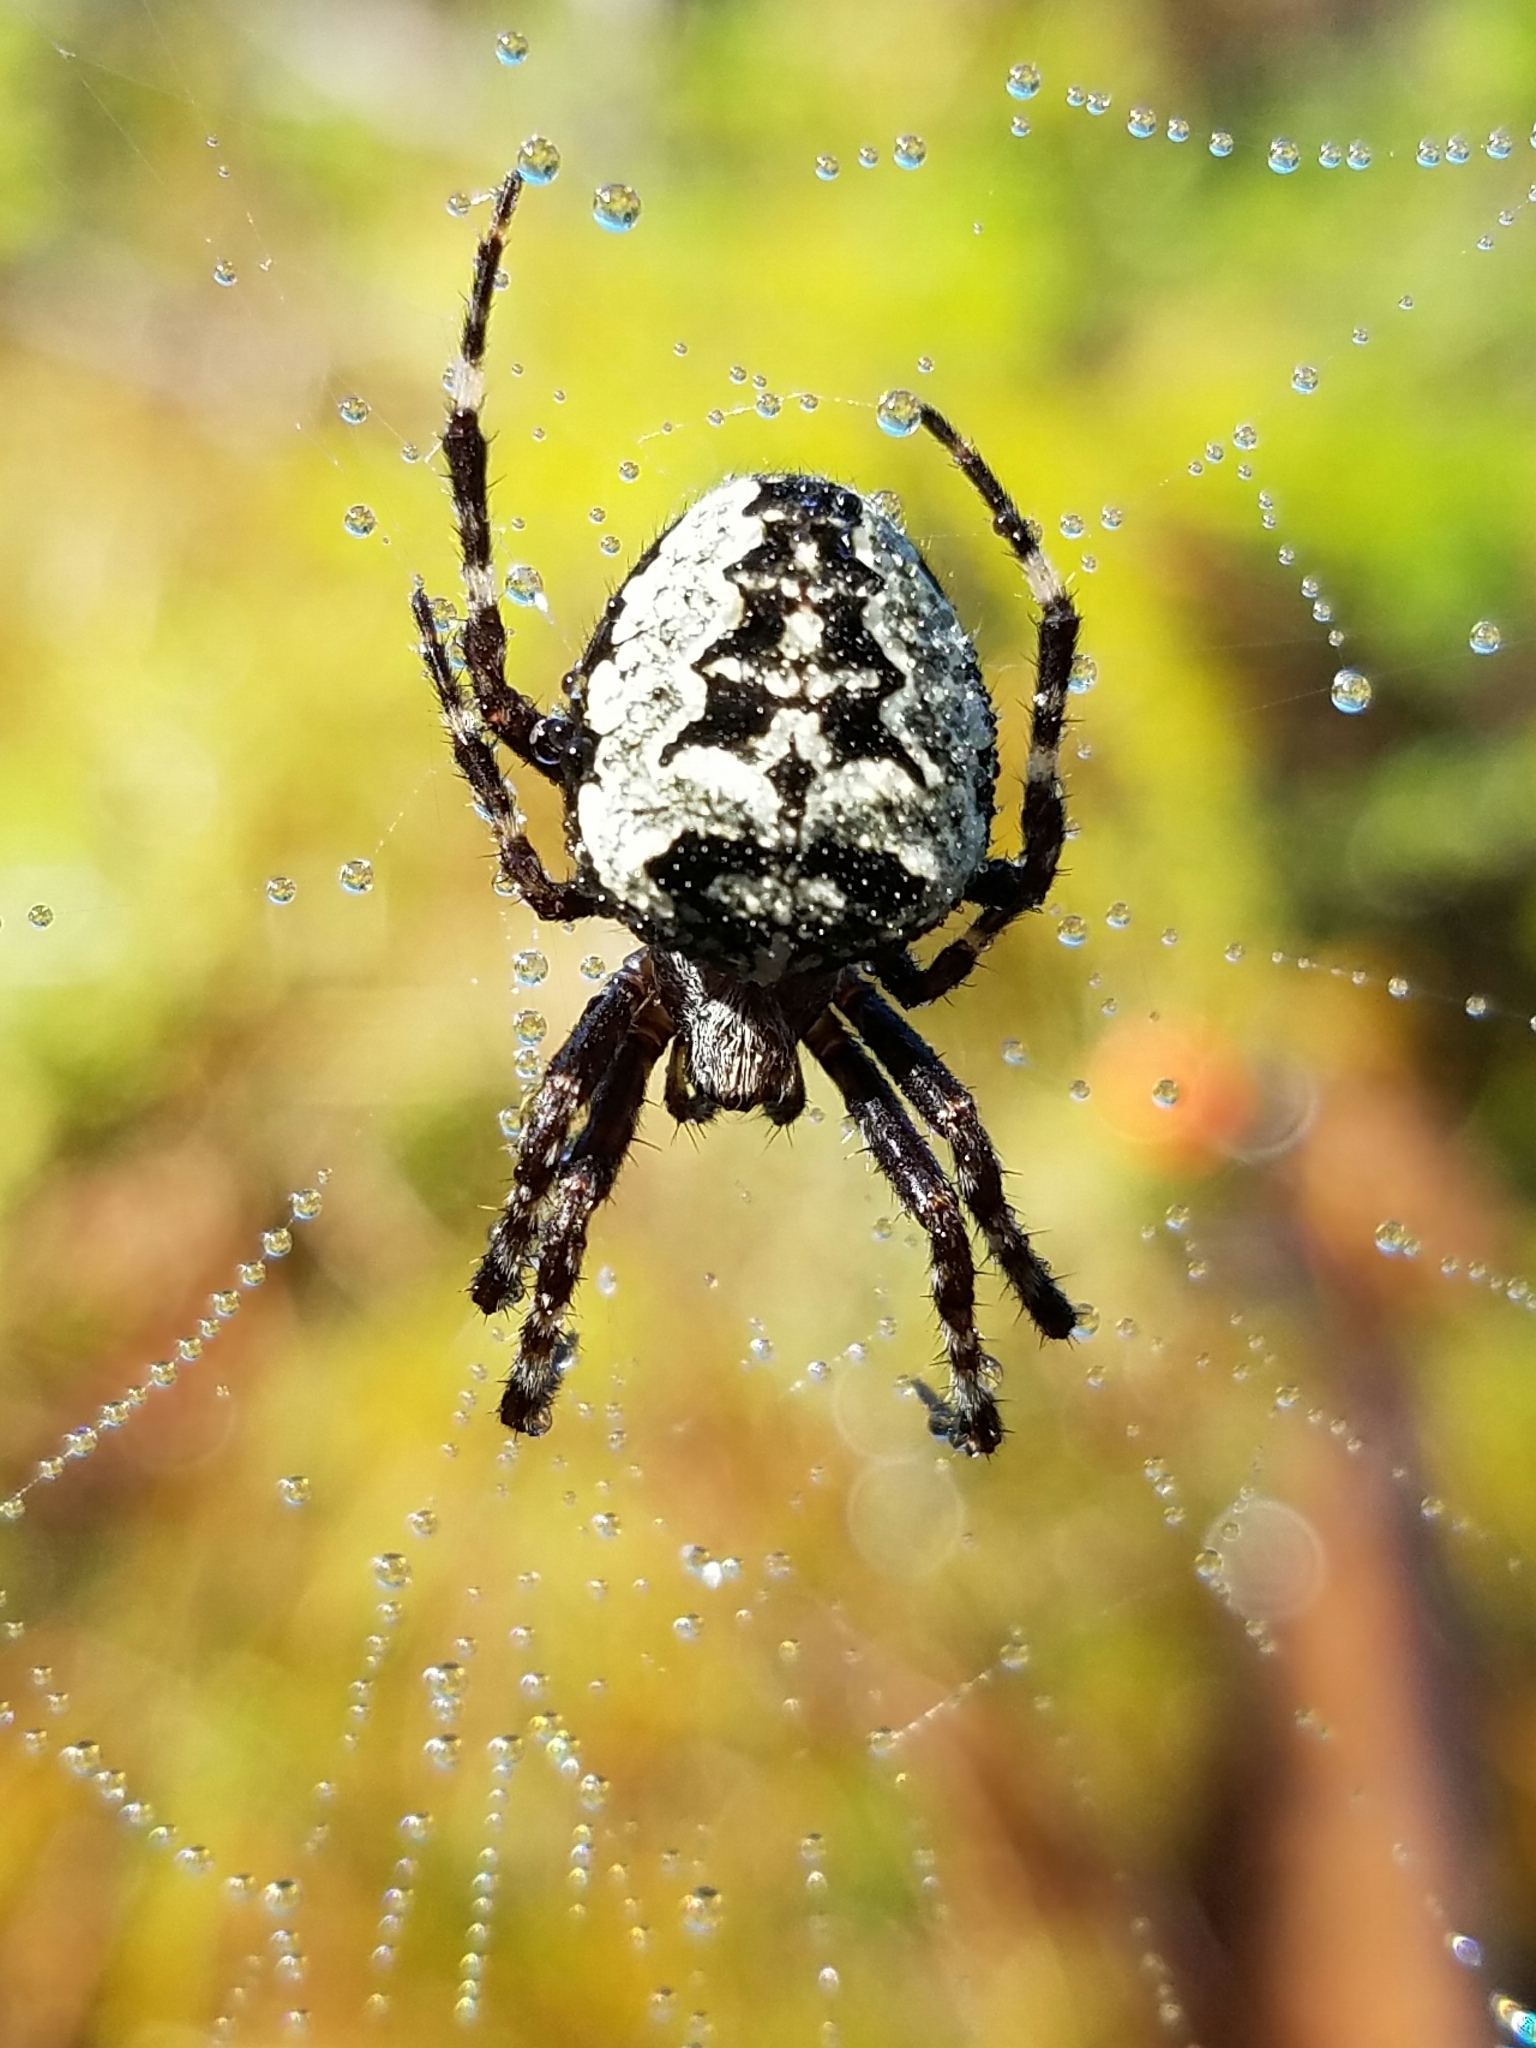spider: (361, 69, 1170, 1521)
